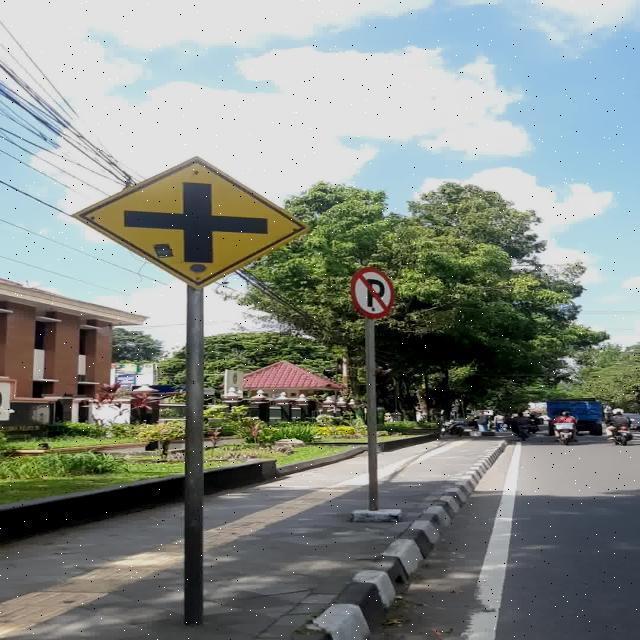Persimpangan 4: (71, 155, 309, 291)
